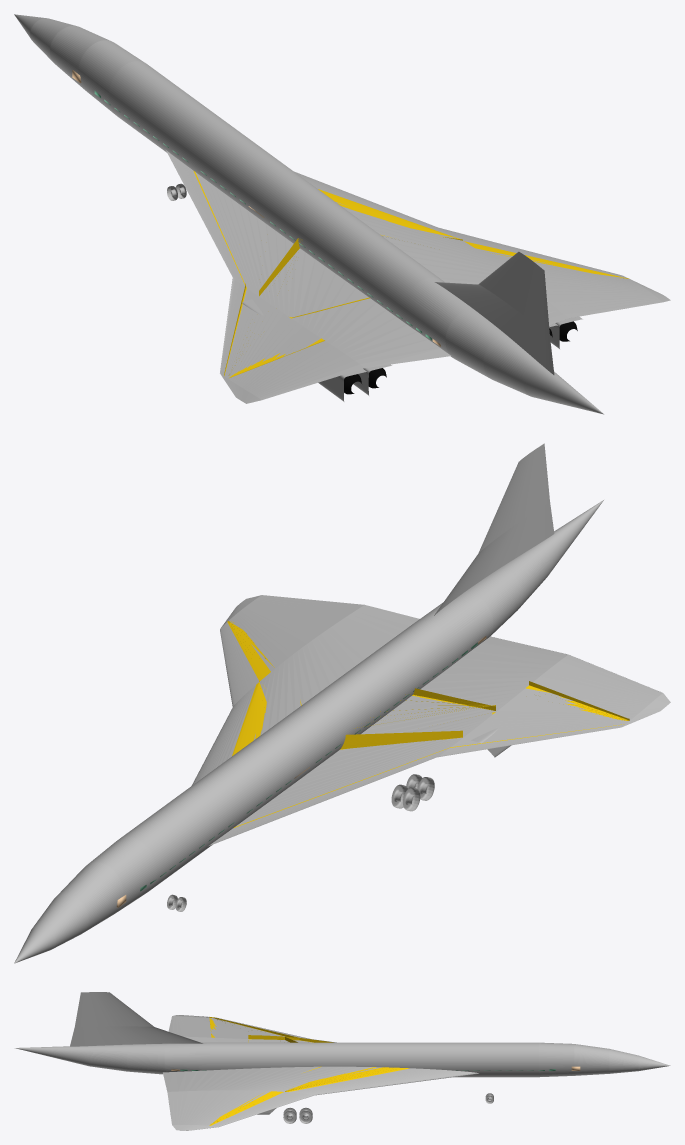
The model's file is Concorde.gltf.
The picture shows the model from 3 angles, top to bottom: view 1: azimuth 30°, elevation 25°; view 2: azimuth 150°, elevation 25°; view 3: azimuth 270°, elevation 25°; orthographic projection. The views are drawn at different scales.
Parts seen in each view (by area): view 1: Renderer Node; view 2: Renderer Node; view 3: Renderer Node.
Boxes of the visible parts, x1,y1,x2,y2 form: Renderer Node: [14, 14, 670, 414]; Renderer Node: [14, 443, 670, 963]; Renderer Node: [15, 992, 670, 1130].
Size of the model in its own units: 25.6 by 11.62 by 61.66.
